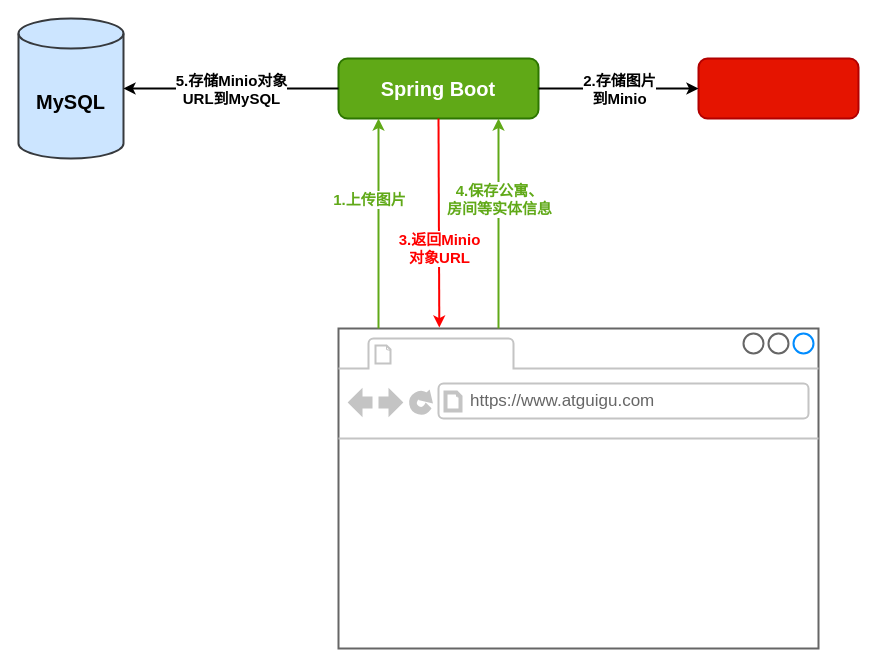
The diagram is 876 pixels wide and 666 high, and some of its shapes have lost their labels. The shapes that lost their labels are listed below. From the top down, each one's box as (x1, y1, x2, y2) in pixels, then its label:
(697, 57, 859, 119): Minio
(398, 340, 508, 366): Page 1
